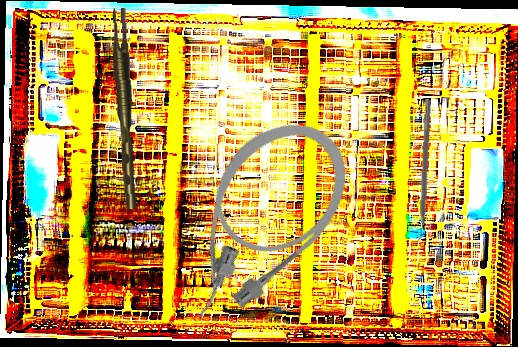Cannula: (139, 97, 373, 344)
Spatula Surgical: (414, 99, 431, 243)
Tissue Forceps: (112, 7, 136, 210)
